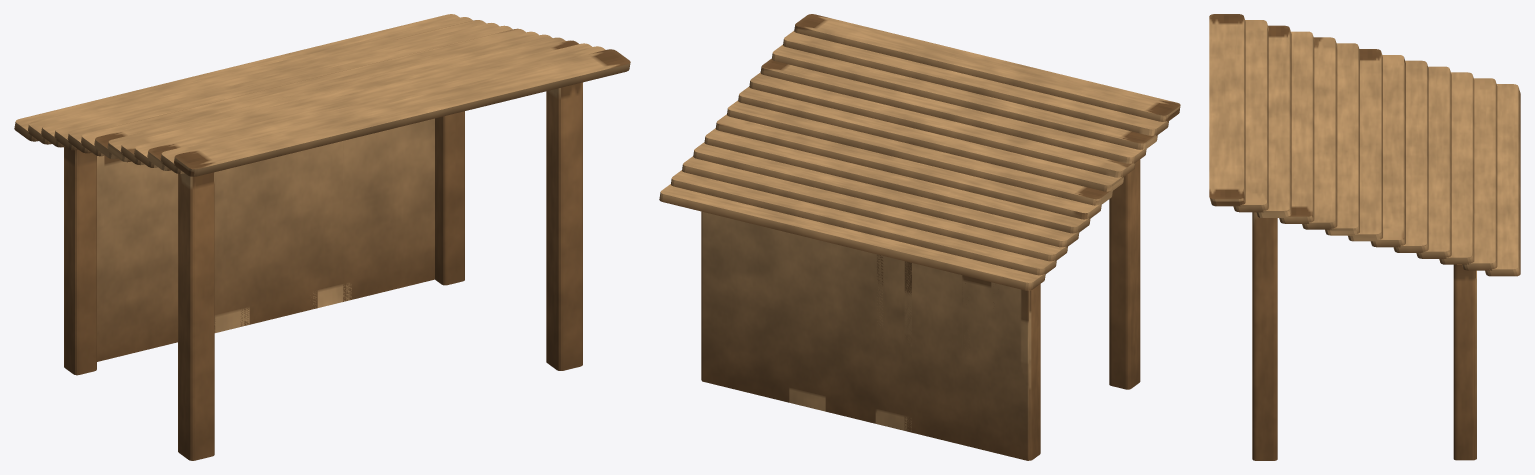
The model's file is woodshed.glb.
3 views of the same model, side by side, from view 1: azimuth 30°, elevation 25°; view 2: azimuth 150°, elevation 25°; view 3: azimuth 270°, elevation 25° (orthographic). The views are drawn at different scales.
Visible parts, largest first — view 1: Roof, Post, Post.002, Board.001, Post.001, Board.008, Board.005, Board.006, Board.002, Board.009, Board.004, Board.007 (+15 smaller); view 2: Roof, Roof.012, Post, Board, Roof.009, Roof.005, Roof.004, Roof.006, Roof.002, Roof.003, Roof.007, Roof.010 (+14 smaller); view 3: Roof, Post.002, Roof.012, Roof.001, Roof.009, Roof.011, Roof.010, Roof.003, Roof.004, Roof.002, Roof.007, Roof.006 (+4 smaller).
Boxes of the visible parts, x1,y1,x2,y2 form: Roof: (174, 49, 630, 176); Post: (178, 172, 214, 460); Post.002: (546, 82, 582, 370); Board.001: (104, 155, 146, 359); Post.001: (64, 147, 96, 375); Board.008: (343, 130, 385, 301); Board.005: (240, 155, 283, 326); Board.006: (275, 147, 317, 318); Board.002: (138, 165, 177, 351); Board.009: (377, 122, 420, 292); Board.004: (214, 164, 249, 332); Board.007: (310, 140, 351, 308); Roof: (794, 14, 1180, 121); Roof.012: (659, 184, 1045, 290); Post: (1109, 159, 1140, 389); Board: (991, 282, 1029, 460); Roof.009: (693, 142, 1079, 247); Roof.005: (738, 86, 1123, 191); Roof.004: (749, 72, 1135, 177); Roof.006: (727, 100, 1112, 205); Roof.002: (772, 44, 1157, 149); Roof.003: (760, 58, 1146, 163); Roof.007: (715, 114, 1101, 219); Roof.010: (682, 156, 1067, 261); Roof: (1209, 14, 1245, 206); Post.002: (1252, 212, 1277, 460); Roof.012: (1485, 84, 1520, 276); Roof.001: (1233, 20, 1268, 212); Roof.009: (1416, 66, 1451, 258); Roof.011: (1462, 78, 1497, 270); Roof.010: (1439, 72, 1474, 264); Roof.003: (1279, 31, 1314, 223); Roof.004: (1302, 37, 1337, 229); Roof.002: (1256, 25, 1291, 217); Roof.007: (1370, 55, 1405, 247); Roof.006: (1348, 49, 1382, 241).
Size of the model in its own units: 3.29 by 2.25 by 2.34.
1 material, 1 textured.
